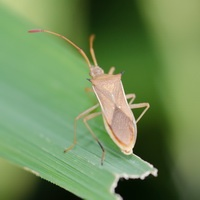insect: (28, 29, 149, 164)
